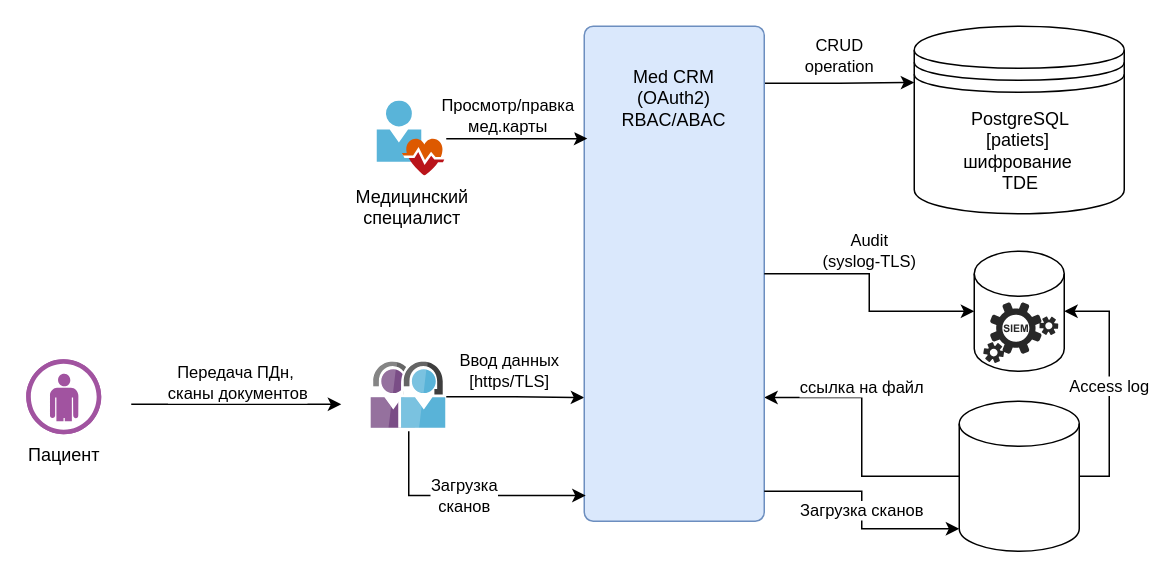
This 1175x578 diagram has some shape labels left out. The centre of each missing label's shape, as x and y in pixels:
"min.io bucket [scans] шифрование SSE-S3" belongs at point (1018, 475).
"Ресепшен" belongs at point (408, 396).
